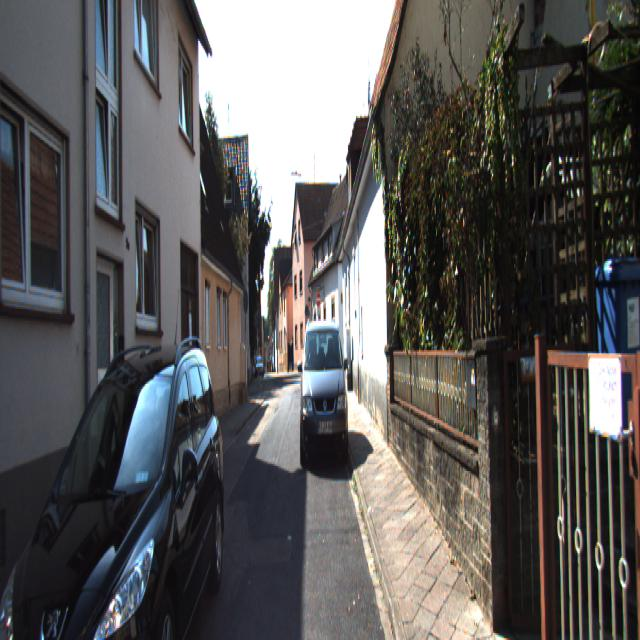Car: (0, 331, 229, 639), (299, 316, 350, 471)
